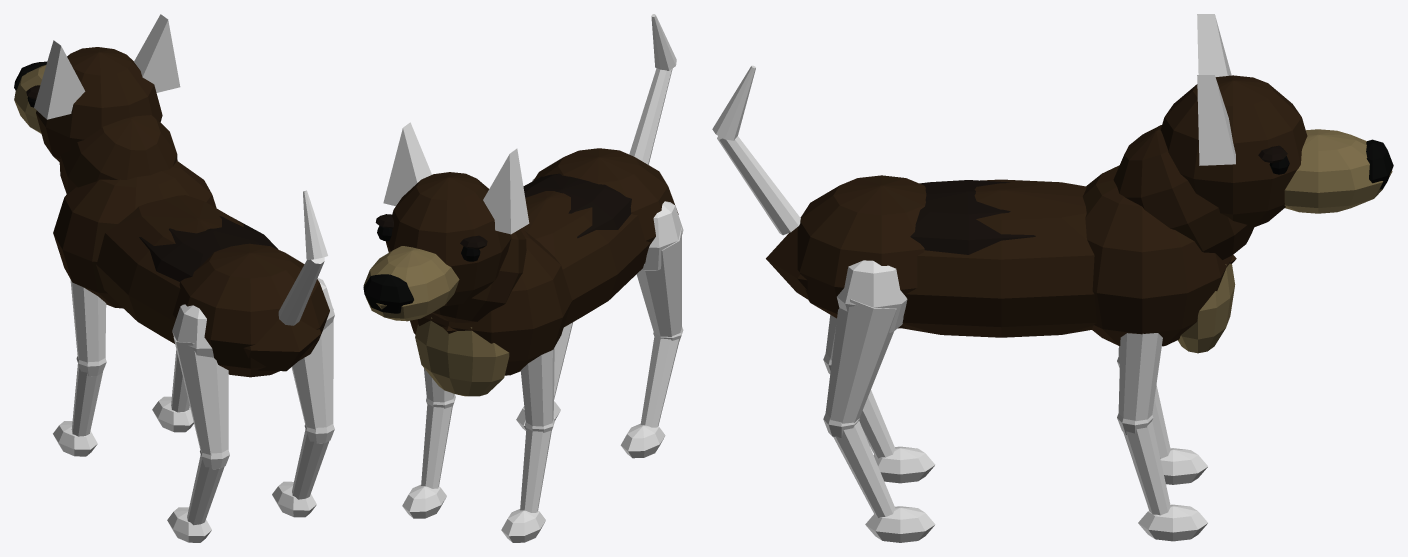
The model's file is DogSmall.fbx.
3 renders of one model, left to right at view 1: azimuth 30°, elevation 25°; view 2: azimuth 150°, elevation 25°; view 3: azimuth 270°, elevation 25°, orthographic. The views are drawn at different scales.
Visible parts, largest first — view 1: DogBody__Plain, DogHead__Plain, DogLegBLUpper__Plain, DogLegBRUpper__Plain, DogEarL__Plain, DogLegFLUpper__Plain, DogEarR__Plain, DogLegFLLower__Plain, DogLegBRLower__Plain, DogLegBLLower__Plain, DogTailA__Plain, DogTailB__Plain (+5 smaller); view 2: DogBody__Plain, DogHead__Plain, DogLegBLUpper__Plain, DogEarL__Plain, DogLegFLUpper__Plain, DogLegBLLower__Plain, DogEarR__Plain, DogLegFLLower__Plain, DogLegFRLower__Plain, DogTailA__Plain, DogPawBL__Plain, DogPawFR__Plain (+4 smaller); view 3: DogBody__Plain, DogHead__Plain, DogLegBRUpper__Plain, DogLegFRUpper__Plain, DogLegBRLower__Plain, DogEarR__Plain, DogLegFRLower__Plain, DogTailA__Plain, DogPawBR__Plain, DogPawFR__Plain, DogEarL__Plain, DogPawBL__Plain (+3 smaller).
Boxes of the visible parts, box(x1,y1,x2,y2) form: DogBody__Plain: box(53, 161, 329, 377); DogHead__Plain: box(14, 47, 177, 193); DogLegBLUpper__Plain: box(172, 304, 228, 454); DogLegBRUpper__Plain: box(291, 278, 334, 429); DogEarL__Plain: box(34, 40, 85, 119); DogLegFLUpper__Plain: box(70, 279, 106, 362); DogEarR__Plain: box(134, 14, 180, 92); DogLegFLLower__Plain: box(71, 356, 106, 436); DogLegBRLower__Plain: box(292, 424, 334, 499); DogLegBLLower__Plain: box(187, 449, 229, 525); DogTailA__Plain: box(278, 257, 324, 325); DogTailB__Plain: box(303, 190, 327, 259); DogBody__Plain: box(410, 148, 678, 396); DogHead__Plain: box(363, 172, 526, 322); DogLegBLUpper__Plain: box(636, 201, 683, 336); DogEarL__Plain: box(483, 148, 529, 234); DogLegFLUpper__Plain: box(520, 347, 554, 426); DogLegBLLower__Plain: box(640, 327, 683, 427); DogEarR__Plain: box(383, 122, 431, 206); DogLegFLLower__Plain: box(520, 418, 554, 512); DogLegFRLower__Plain: box(421, 394, 455, 488); DogTailA__Plain: box(629, 68, 672, 164); DogPawBL__Plain: box(620, 423, 665, 458); DogPawFR__Plain: box(402, 484, 446, 518); DogBody__Plain: box(766, 165, 1236, 353); DogHead__Plain: box(1113, 75, 1393, 259); DogLegBRUpper__Plain: box(825, 260, 907, 423); DogLegFRUpper__Plain: box(1118, 333, 1162, 421); DogLegBRLower__Plain: box(823, 413, 895, 518); DogEarR__Plain: box(1197, 75, 1235, 165); DogLegFRLower__Plain: box(1117, 413, 1170, 515); DogTailA__Plain: box(717, 136, 800, 235); DogPawBR__Plain: box(865, 506, 935, 542); DogPawFR__Plain: box(1138, 504, 1207, 541); DogEarL__Plain: box(1197, 14, 1231, 76); DogPawBL__Plain: box(873, 446, 935, 483).
Size of the model in its own units: 0.247 by 0.6108 by 0.808.
